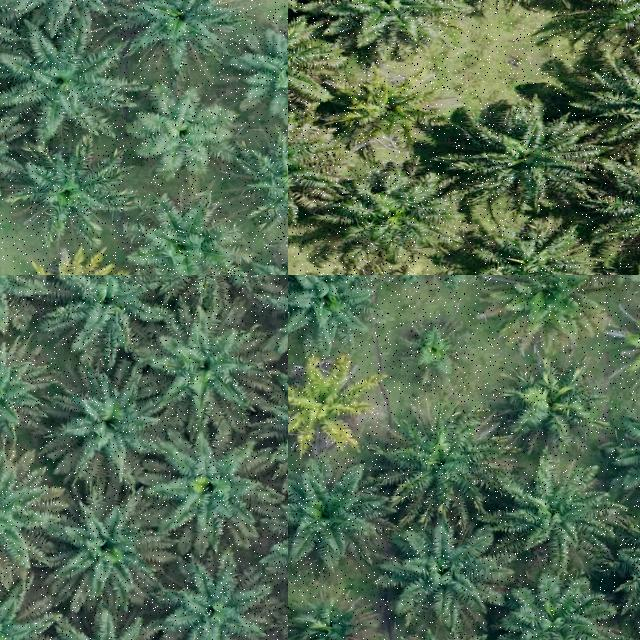Ganoderma: (341, 81, 431, 141), (288, 370, 362, 439), (34, 260, 116, 275)
